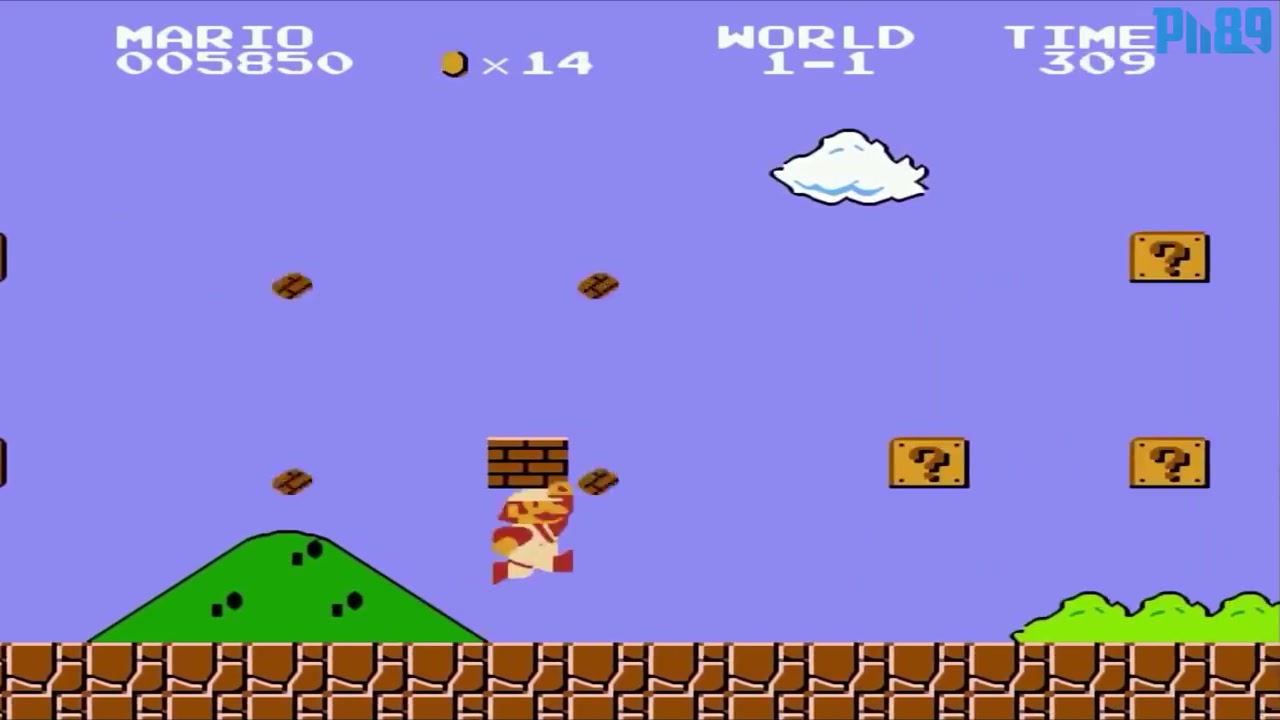mario: (485, 477, 589, 590)
